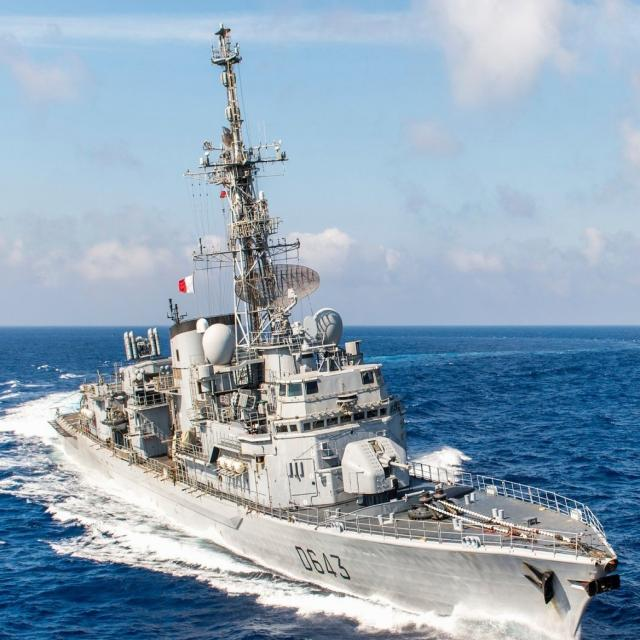navalvessels: (30, 33, 627, 631)
